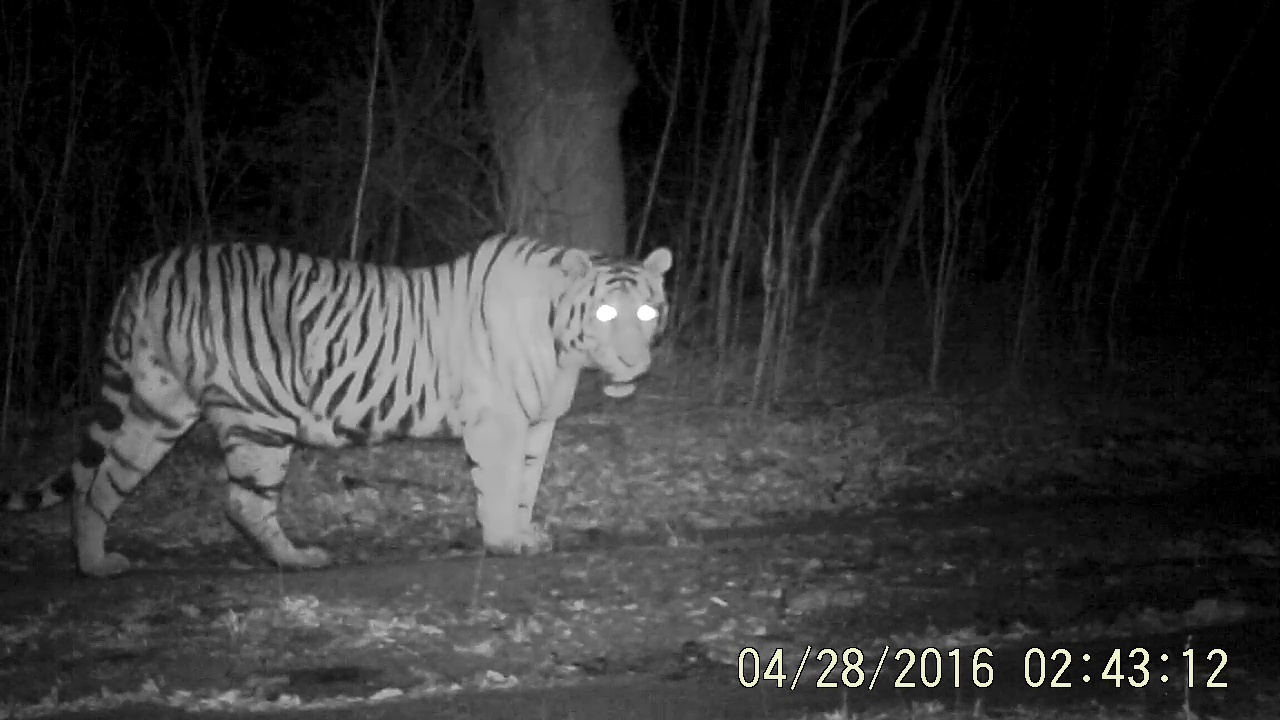Tiger: (5, 106, 696, 655)
